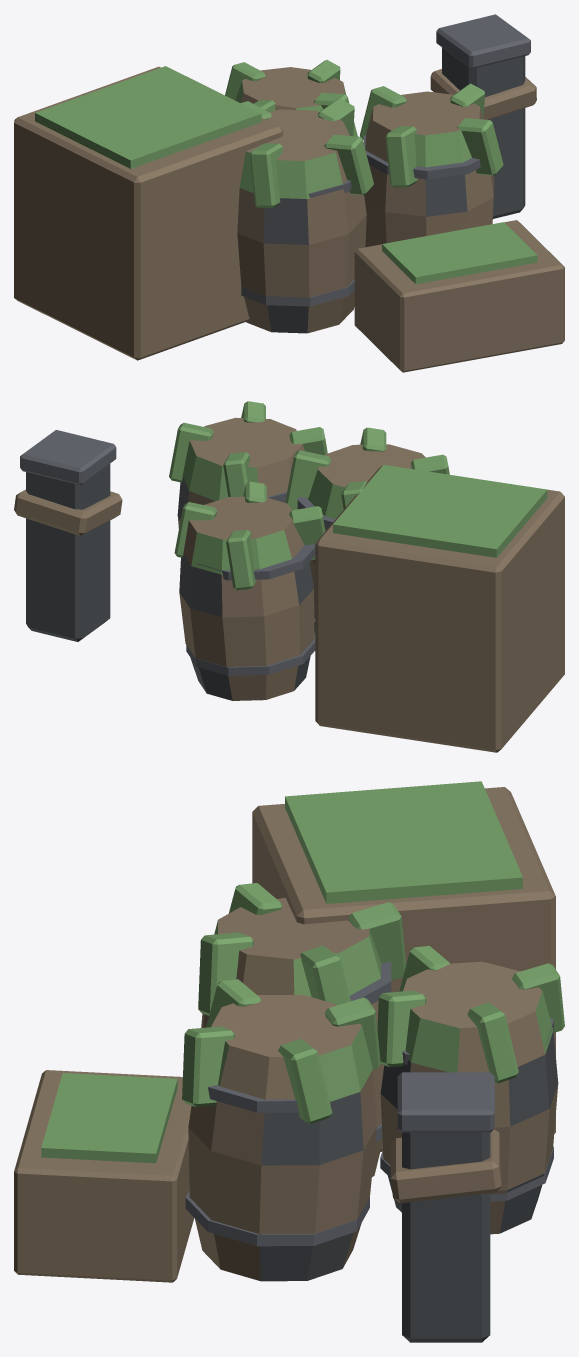
The model's file is outdoor_dock_cargo.glb.
The picture shows the model from 3 angles, top to bottom: view 1: azimuth 30°, elevation 25°; view 2: azimuth 150°, elevation 25°; view 3: azimuth 270°, elevation 25°; orthographic projection. The views are drawn at different scales.
Visible parts, largest first — view 1: Outdoor_DockCargo; view 2: Outdoor_DockCargo; view 3: Outdoor_DockCargo.
Part boxes in pixels (x1=…): Outdoor_DockCargo: x1=14, y1=14, x2=564, y2=372; Outdoor_DockCargo: x1=14, y1=401, x2=564, y2=752; Outdoor_DockCargo: x1=14, y1=781, x2=564, y2=1342.
Bounding box in the file's own units: 3.59 × 1.38 × 2.62.
